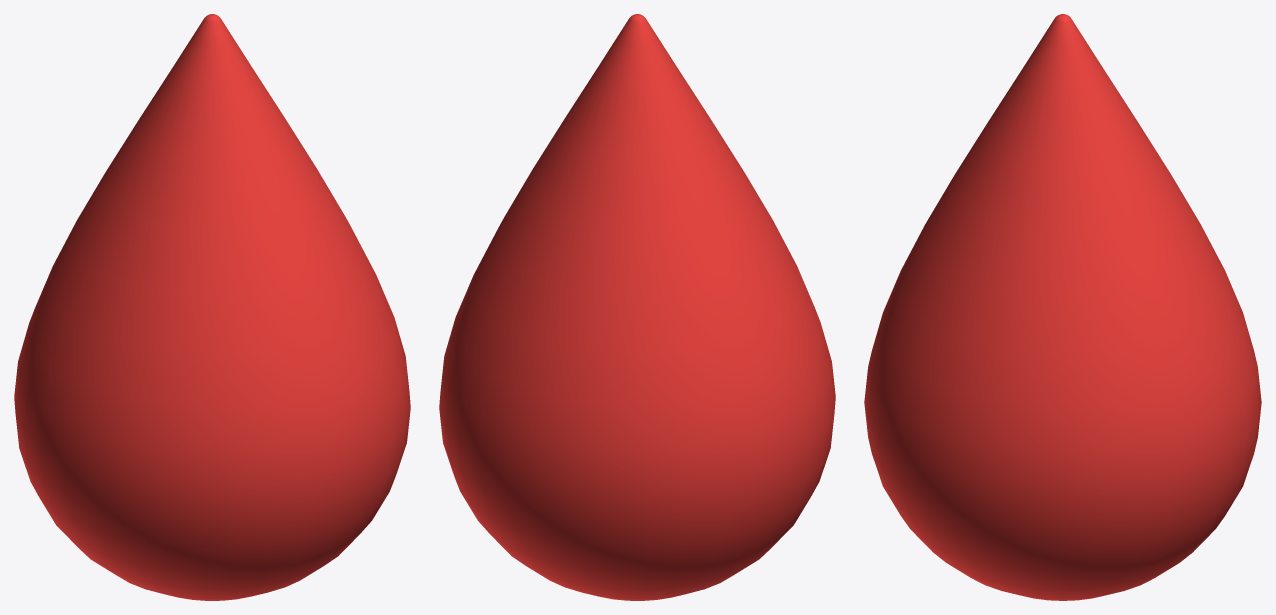
File: drop_of_blood.glb
The picture shows the model from 3 angles, left to right: view 1: azimuth 30°, elevation 25°; view 2: azimuth 150°, elevation 25°; view 3: azimuth 270°, elevation 25°; orthographic projection.
Visible parts, largest first — view 1: Sphere.372; view 2: Sphere.372; view 3: Sphere.372.
Boxes of the visible parts, left/top/right/bottom form: Sphere.372: left=14, top=14, right=410, bottom=600; Sphere.372: left=439, top=14, right=835, bottom=600; Sphere.372: left=864, top=14, right=1261, bottom=600.
Size of the model in its own units: 1.4 by 2.2 by 1.4.
Materials: 1 (1 with a texture image).
